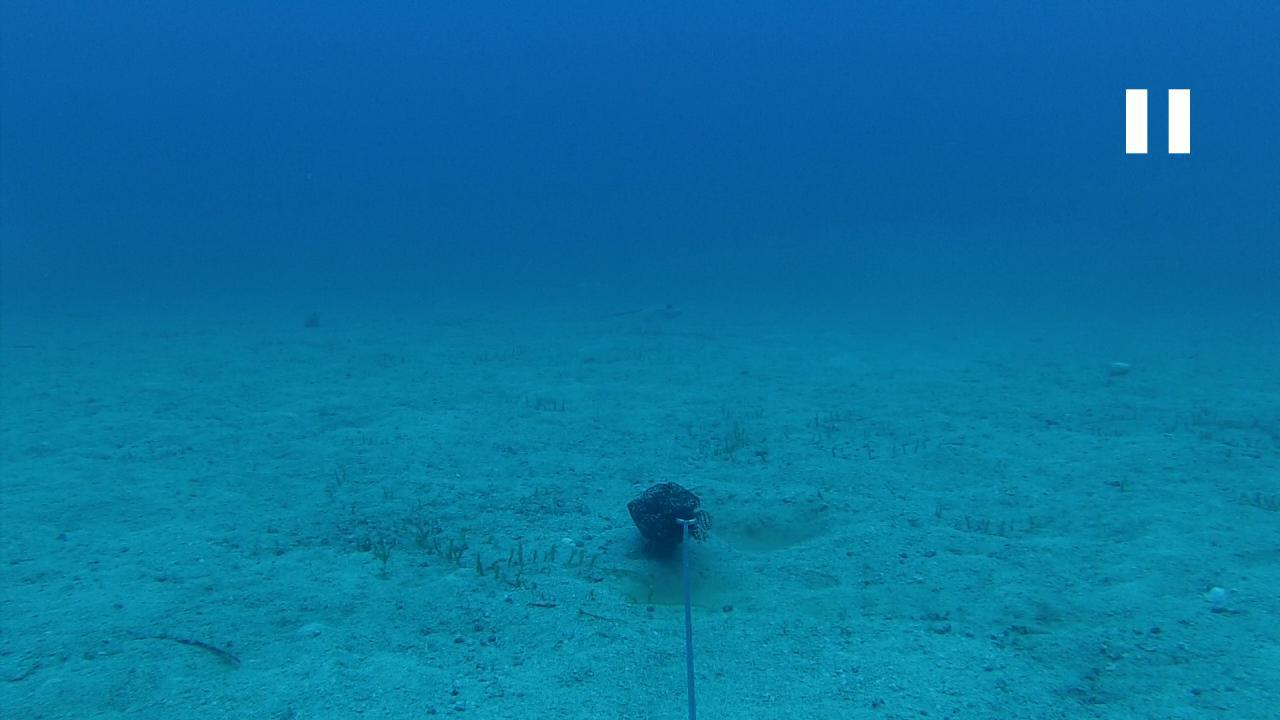bothus: (125, 626, 244, 658)
dasyatis: (610, 303, 682, 325)
